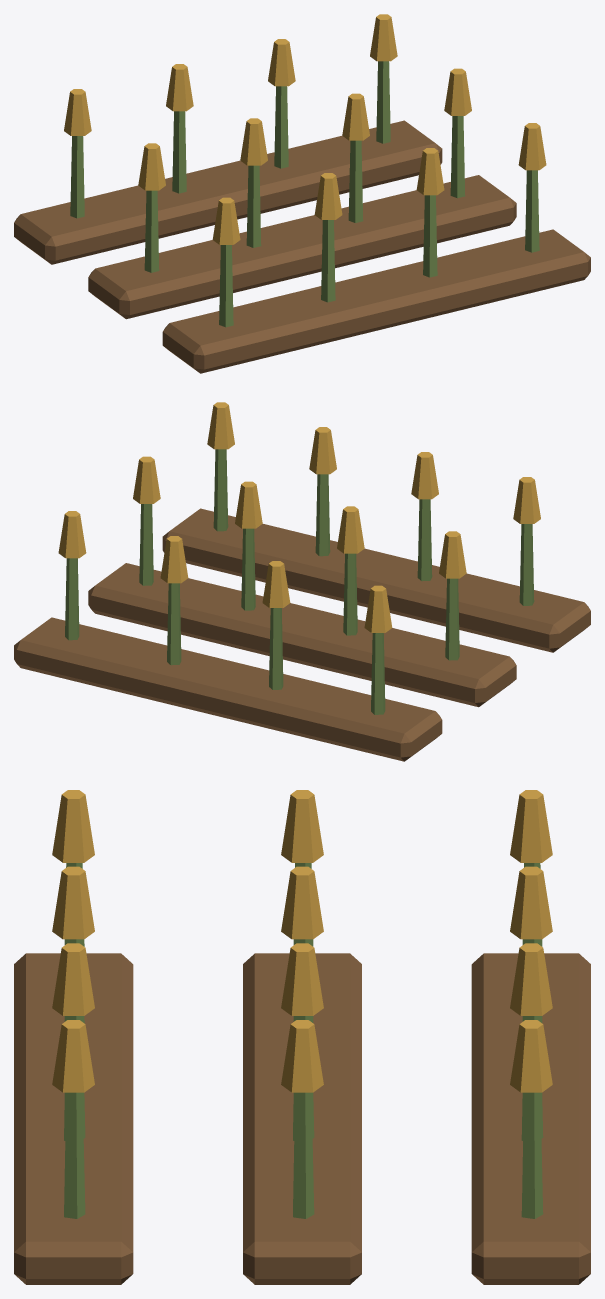
Rendered from prop_crops.glb.
3 renders of one model, top to bottom at view 1: azimuth 30°, elevation 25°; view 2: azimuth 150°, elevation 25°; view 3: azimuth 270°, elevation 25°, orthographic. The views are drawn at different scales.
Visible parts, largest first — view 1: SoilRow_00.001, SoilRow_01.001, SoilRow_02.001, Stem_02_02.001, Stem_02_03.001, Stem_02_01.001, Stem_00_02.001, Stem_02_00.001, Stem_00_03.001, Stem_00_00.001, Stem_00_01.001, Stem_01_01.001 (+15 smaller); view 2: SoilRow_02.001, SoilRow_01.001, SoilRow_00.001, Stem_01_01.001, Stem_01_02.001, Stem_01_00.001, Stem_01_03.001, Stem_02_03.001, Stem_02_02.001, Stem_00_03.001, Stem_02_01.001, Stem_00_02.001 (+15 smaller); view 3: SoilRow_00.001, SoilRow_02.001, SoilRow_01.001, Stem_00_03.001, Stem_02_03.001, Stem_01_03.001, Grain_00_01.001, Grain_02_01.001, Grain_01_01.001, Grain_00_03.001, Grain_02_03.001, Grain_01_02.001 (+6 smaller).
Boxes of the visible parts, <box> form: SoilRow_00.001: <box>162,229,590,373</box>; SoilRow_01.001: <box>88,175,516,319</box>; SoilRow_02.001: <box>14,120,442,264</box>; Stem_02_02.001: <box>274,86,288,168</box>; Stem_02_03.001: <box>376,61,390,143</box>; Stem_02_01.001: <box>172,111,186,193</box>; Stem_00_02.001: <box>423,195,437,277</box>; Stem_02_00.001: <box>70,136,84,218</box>; Stem_00_03.001: <box>525,170,539,252</box>; Stem_00_00.001: <box>219,245,233,327</box>; Stem_00_01.001: <box>321,220,335,302</box>; Stem_01_01.001: <box>246,165,261,247</box>; SoilRow_02.001: <box>14,617,442,761</box>; SoilRow_01.001: <box>88,563,516,707</box>; SoilRow_00.001: <box>162,508,590,652</box>; Stem_01_01.001: <box>343,553,357,635</box>; Stem_01_02.001: <box>241,528,255,610</box>; Stem_01_00.001: <box>445,578,459,660</box>; Stem_01_03.001: <box>139,504,153,585</box>; Stem_02_03.001: <box>65,558,79,640</box>; Stem_02_02.001: <box>167,583,181,665</box>; Stem_00_03.001: <box>213,449,228,531</box>; Stem_02_01.001: <box>269,608,283,689</box>; Stem_00_02.001: <box>315,474,330,556</box>; SoilRow_00.001: <box>14,953,133,1284</box>; SoilRow_02.001: <box>471,953,590,1284</box>; SoilRow_01.001: <box>243,953,361,1284</box>; Stem_00_03.001: <box>64,1092,85,1218</box>; Stem_02_03.001: <box>521,1092,543,1218</box>; Stem_01_03.001: <box>293,1092,314,1218</box>; Grain_00_01.001: <box>52,866,94,939</box>; Grain_02_01.001: <box>510,866,552,939</box>; Grain_01_01.001: <box>281,866,323,939</box>; Grain_00_03.001: <box>52,1020,94,1092</box>; Grain_02_03.001: <box>510,1020,552,1092</box>; Grain_01_02.001: <box>281,943,323,1015</box>.
Size of the model in its own units: 1.48 by 0.54 by 1.21.
